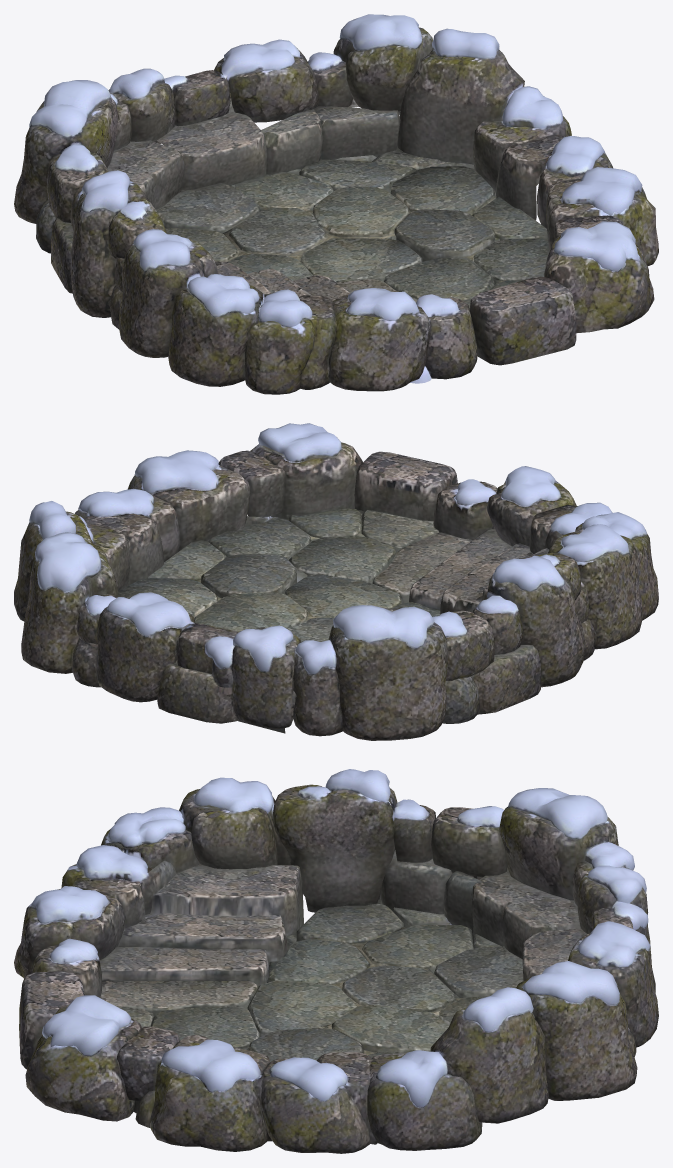
The model's file is stone-arena-mobile-v01.glb.
3 views of the same model, one above another, from view 1: azimuth 30°, elevation 25°; view 2: azimuth 150°, elevation 25°; view 3: azimuth 270°, elevation 25° (orthographic). The views are drawn at different scales.
Visible parts, largest first — view 1: tripo_node_99d72db4-8408-4591-8633-c48a5e81bb66; view 2: tripo_node_99d72db4-8408-4591-8633-c48a5e81bb66; view 3: tripo_node_99d72db4-8408-4591-8633-c48a5e81bb66.
Part boxes in pixels (box(x1,y1,x2,y2)): tripo_node_99d72db4-8408-4591-8633-c48a5e81bb66: box(14, 14, 658, 394); tripo_node_99d72db4-8408-4591-8633-c48a5e81bb66: box(14, 423, 658, 740); tripo_node_99d72db4-8408-4591-8633-c48a5e81bb66: box(14, 769, 658, 1153).
Size of the model in its own units: 0.9995 by 0.2642 by 0.9897.
Materials: 1 (1 with a texture image).
